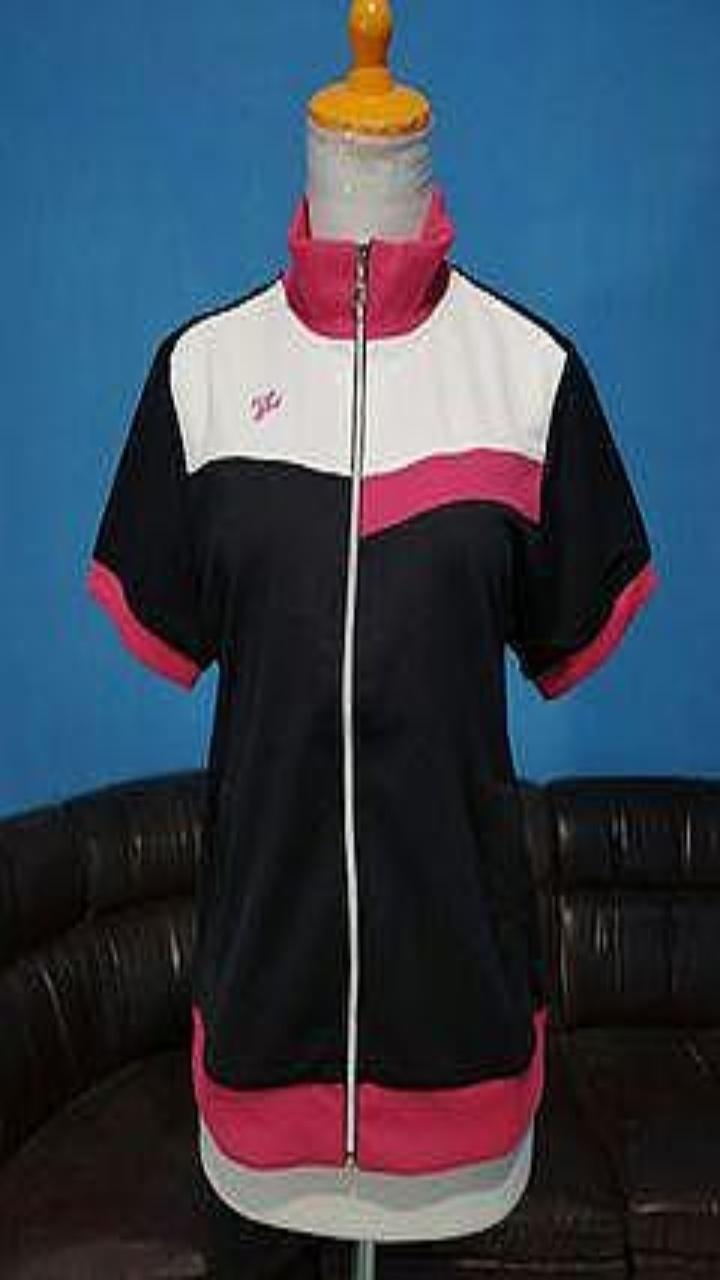Sports_Jacket: (87, 185, 656, 1173)
